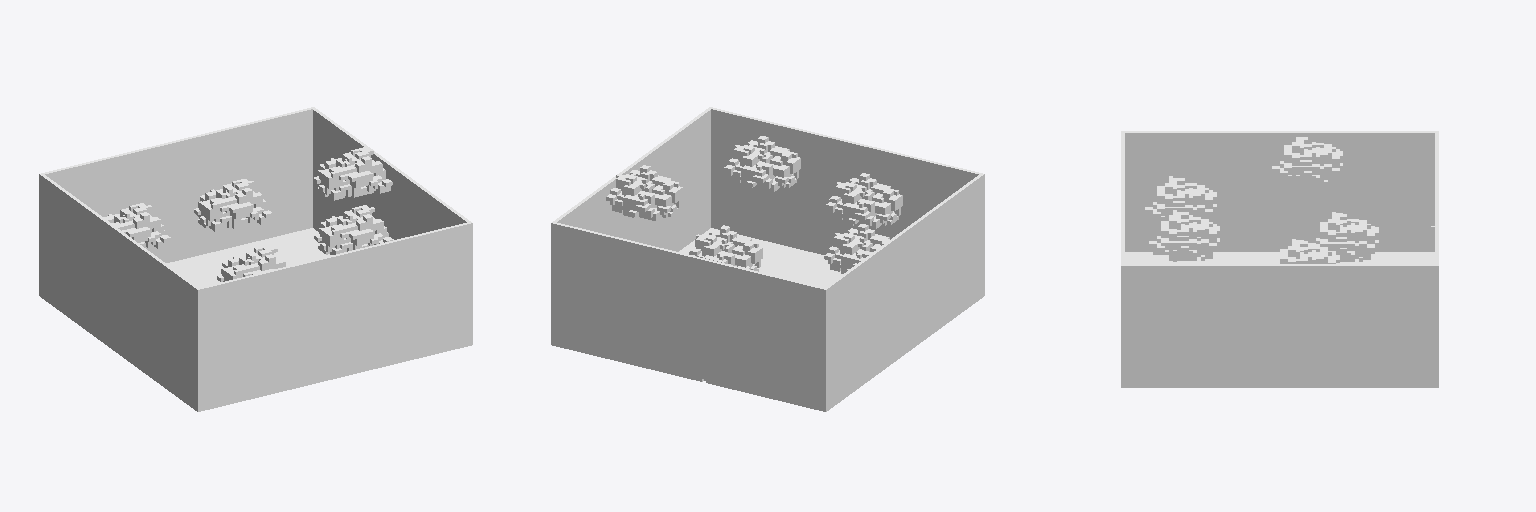
The model's file is Field4.obj.
The picture shows the model from 3 angles: view 1: azimuth 30°, elevation 25°; view 2: azimuth 150°, elevation 25°; view 3: azimuth 270°, elevation 25°; orthographic projection.
Parts seen in each view (by area): view 1: object 1; view 2: object 1; view 3: object 1.
Part boxes in pixels (left/top/right/bottom): object 1: left=39, top=107, right=472, bottom=411; object 1: left=551, top=107, right=984, bottom=411; object 1: left=1121, top=131, right=1438, bottom=387.
Bounding box in the file's own units: 8 × 3.6 × 8.